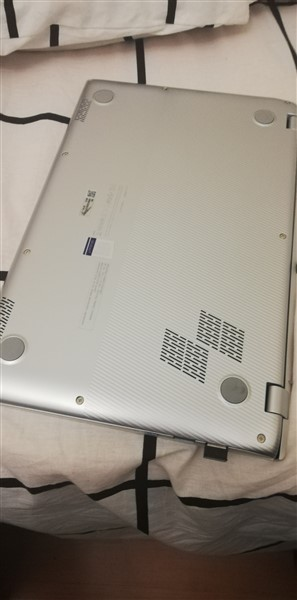laptop: (1, 76, 293, 471)
